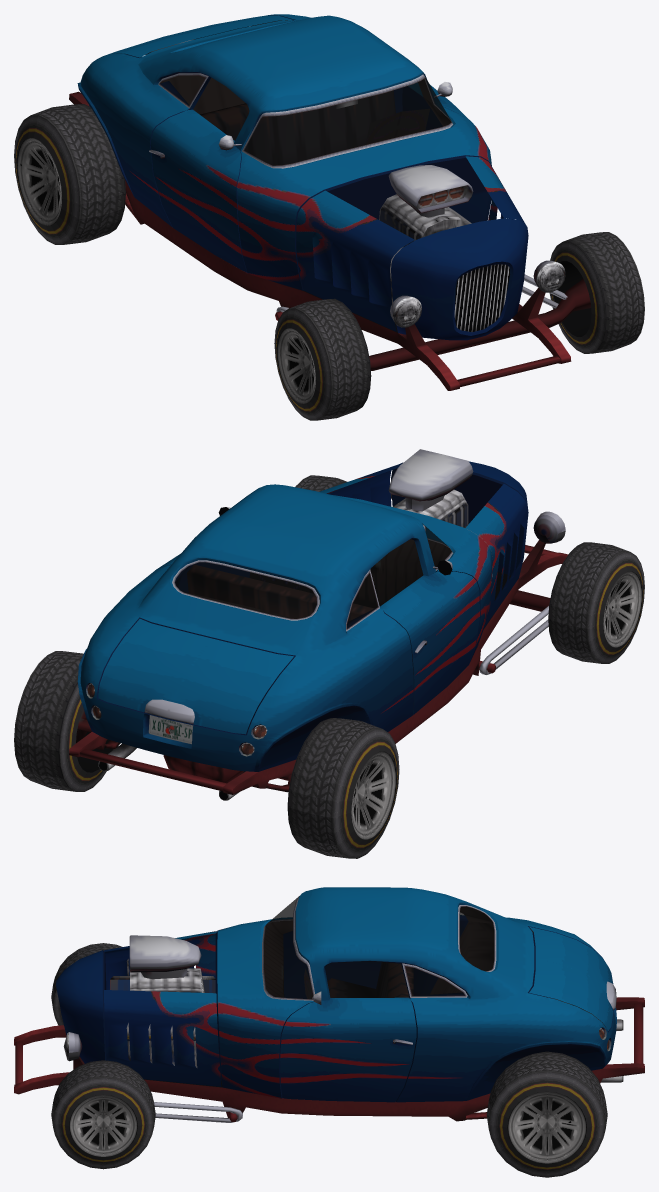
The model's file is hot_rod_burnout_revenge_sd.glb.
The picture shows the model from 3 angles, top to bottom: view 1: azimuth 30°, elevation 25°; view 2: azimuth 150°, elevation 25°; view 3: azimuth 270°, elevation 25°; orthographic projection. The views are drawn at different scales.
Parts seen in each view (by area): view 1: Car2S1_Body_0000_0000, Car2S1_Body_0000_0001, Car2S1_Body_Part_0004_0000, Car2S1_Body_Part_0001_0000, Car2S1_Body_Part_0002_0000, Car2S1_Wheel_0002_0000, Car2S1_Body_Part_0006_0001, Car2S1_Wheel_0001_0000, Car2S1_Wheel_0000_0000, Car2S1_Body_Part_0002_0001, Car2S1_Wheel_0002_0001, Car2S1_Wheel_0000_0001 (+6 smaller); view 2: Car2S1_Body_0000_0000, Car2S1_Body_Part_0005_0000, Car2S1_Wheel_0002_0000, Car2S1_Body_0000_0001, Car2S1_Wheel_0003_0000, Car2S1_Body_Part_0001_0000, Car2S1_Wheel_0000_0000, Car2S1_Body_Part_0004_0000, Car2S1_Body_Part_0007_0001, Car2S1_Wheel_0002_0001, Car2S1_Wheel_0000_0001, Car2S1_Body_Part_0001_0002 (+5 smaller); view 3: Car2S1_Body_0000_0000, Car2S1_Body_Part_0000_0000, Car2S1_Body_Part_0004_0000, Car2S1_Body_0000_0001, Car2S1_Wheel_0003_0000, Car2S1_Wheel_0001_0000, Car2S1_Body_Part_0005_0000, Car2S1_Wheel_0003_0001, Car2S1_Body_Part_0002_0000, Car2S1_Wheel_0001_0001, Car2S1_Body_Part_0006_0001, Car2S1_Body_Part_0000_0002 (+6 smaller).
Boxes of the visible parts, box(x1,y1,x2,y2) form: Car2S1_Body_0000_0000: box(69, 14, 590, 390); Car2S1_Body_0000_0001: box(160, 20, 488, 332); Car2S1_Body_Part_0004_0000: box(296, 156, 525, 331); Car2S1_Body_Part_0001_0000: box(149, 109, 247, 272); Car2S1_Body_Part_0002_0000: box(391, 218, 528, 340); Car2S1_Wheel_0002_0000: box(14, 104, 125, 244); Car2S1_Body_Part_0006_0001: box(244, 78, 451, 165); Car2S1_Wheel_0001_0000: box(549, 232, 644, 353); Car2S1_Wheel_0000_0000: box(274, 298, 371, 420); Car2S1_Body_Part_0002_0001: box(454, 264, 510, 332); Car2S1_Wheel_0002_0001: box(17, 138, 62, 225); Car2S1_Wheel_0000_0001: box(277, 328, 316, 404); Car2S1_Body_0000_0000: box(69, 449, 568, 800); Car2S1_Body_Part_0005_0000: box(98, 619, 293, 734); Car2S1_Wheel_0002_0000: box(287, 718, 399, 858); Car2S1_Body_0000_0001: box(175, 489, 510, 628); Car2S1_Wheel_0003_0000: box(14, 651, 118, 791); Car2S1_Body_Part_0001_0000: box(380, 571, 479, 714); Car2S1_Wheel_0000_0000: box(548, 542, 644, 663); Car2S1_Body_Part_0004_0000: box(319, 463, 528, 627); Car2S1_Body_Part_0007_0001: box(175, 562, 316, 618); Car2S1_Wheel_0002_0001: box(351, 751, 396, 839); Car2S1_Wheel_0000_0001: box(603, 571, 642, 647); Car2S1_Body_Part_0001_0002: box(370, 539, 423, 606); Car2S1_Body_0000_0000: box(14, 887, 644, 1122); Car2S1_Body_Part_0000_0000: box(280, 997, 416, 1102); Car2S1_Body_Part_0004_0000: box(104, 931, 221, 1086); Car2S1_Body_0000_0001: box(110, 906, 605, 1087); Car2S1_Wheel_0003_0000: box(486, 1051, 607, 1177); Car2S1_Wheel_0001_0000: box(51, 1060, 155, 1169); Car2S1_Body_Part_0005_0000: box(529, 926, 616, 1030); Car2S1_Wheel_0003_0001: box(507, 1091, 586, 1163); Car2S1_Body_Part_0002_0000: box(56, 950, 106, 1063); Car2S1_Wheel_0001_0001: box(69, 1095, 137, 1156); Car2S1_Body_Part_0006_0001: box(264, 896, 313, 999); Car2S1_Body_Part_0000_0002: box(325, 961, 408, 997).
Size of the model in its own units: 0.0212 by 0.0132 by 0.0382.
Materials: 3 (2 with a texture image).
